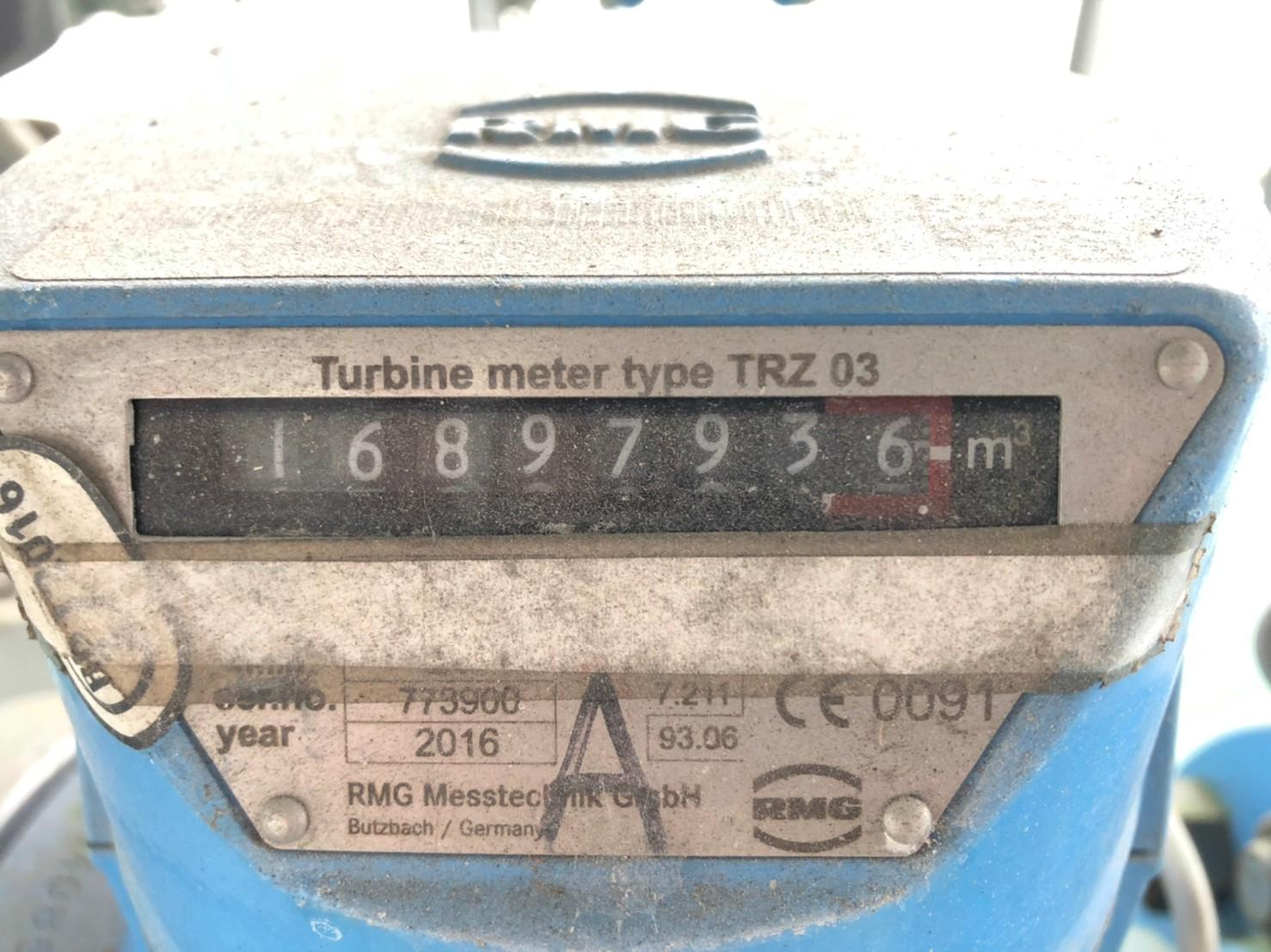analog_dial: (128, 397, 1059, 534)
